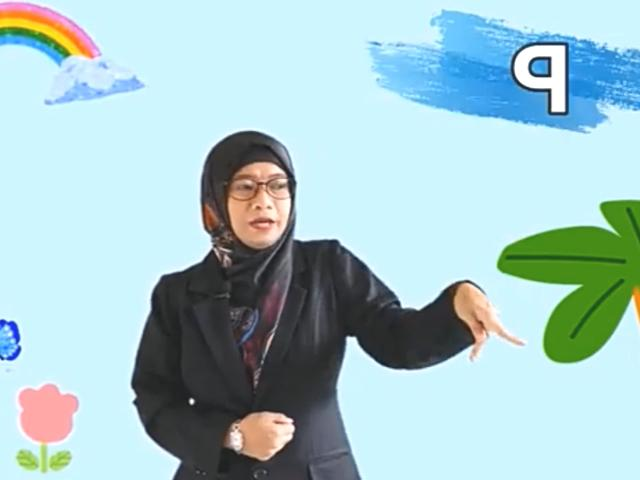P: (454, 281, 526, 367)
